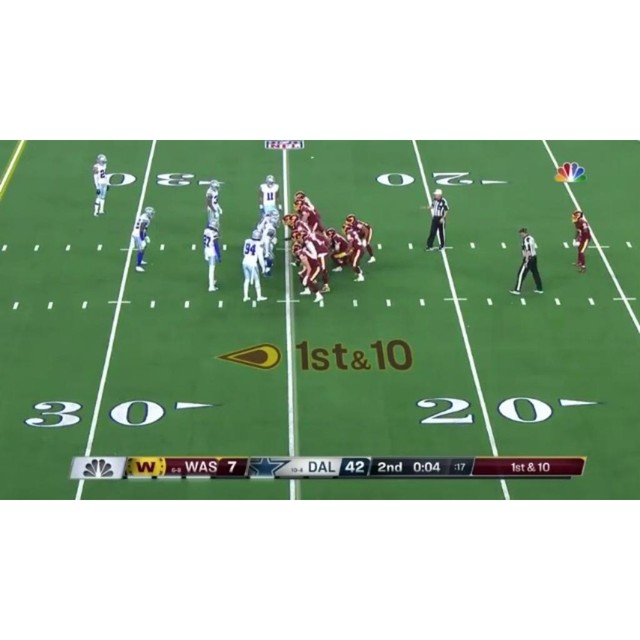american-football-player: (291, 243, 325, 305), (300, 231, 334, 292), (240, 230, 267, 306), (130, 207, 156, 271), (344, 214, 377, 264), (201, 219, 223, 291), (256, 211, 280, 274), (342, 225, 368, 282), (569, 209, 591, 272), (325, 228, 352, 275), (91, 154, 110, 217), (257, 174, 282, 218), (295, 195, 322, 235), (205, 180, 222, 224)
referee: (510, 228, 545, 295), (425, 189, 450, 252)
